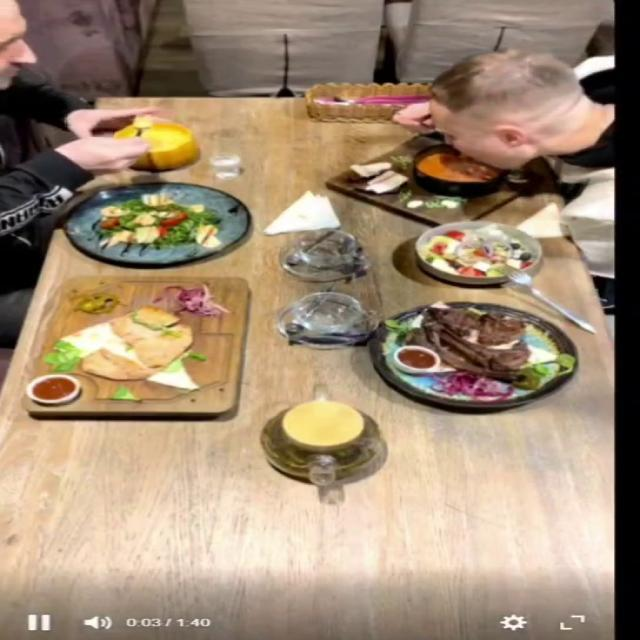meat: (22, 275, 248, 414), (367, 301, 579, 408)
salad: (60, 182, 249, 266), (414, 220, 542, 285)
soup: (326, 136, 554, 226), (112, 118, 199, 170)
tea: (250, 375, 398, 507)
